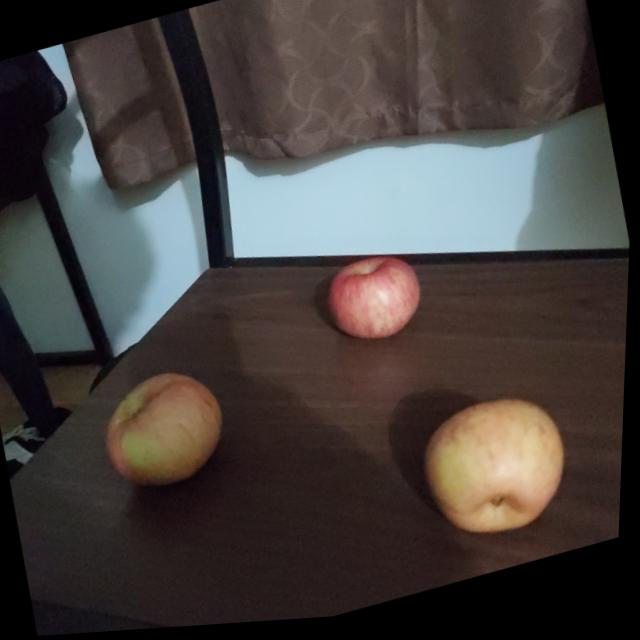apple: (414, 390, 581, 558), (96, 364, 238, 503), (324, 249, 431, 357)
